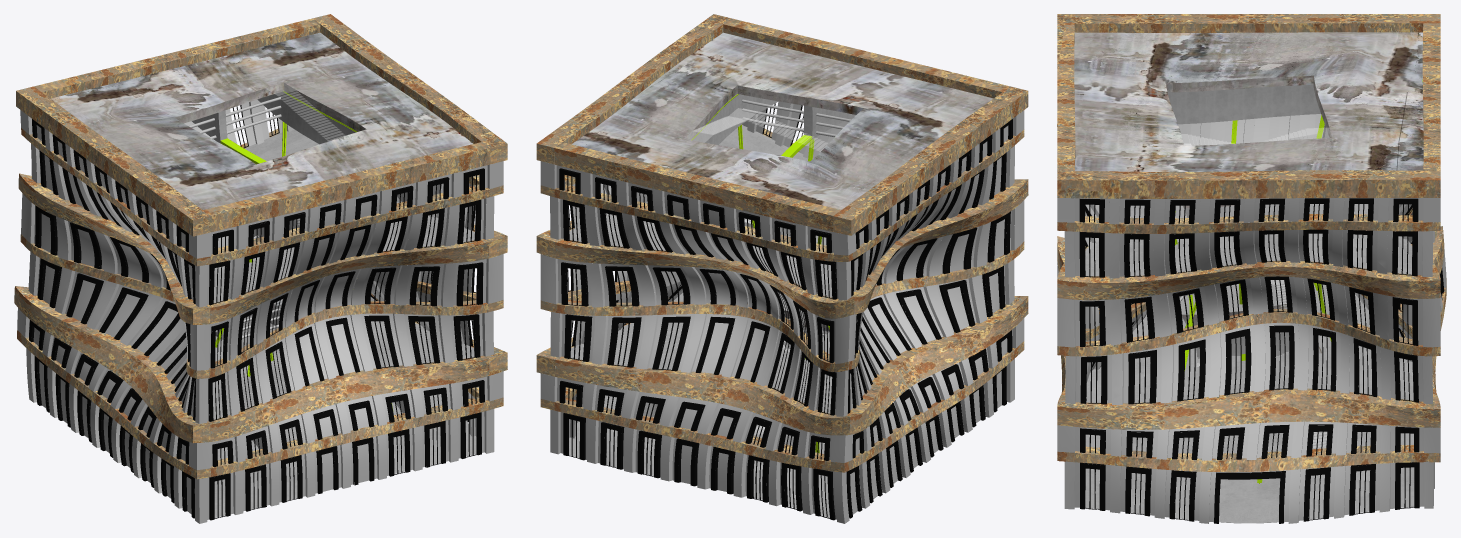
3 views of the same model, side by side, from view 1: azimuth 30°, elevation 25°; view 2: azimuth 150°, elevation 25°; view 3: azimuth 270°, elevation 25° (orthographic). The views are drawn at different scales.
Visible parts, largest first — view 1: CORTEN HAT, metal kolon, siyah, eski concrete, galvanized cephe, concrete zemin-buyuk kiris, CAM MERDIVEN, yesil; view 2: CORTEN HAT, metal kolon, siyah, eski concrete, galvanized cephe, concrete zemin-buyuk kiris, CAM MERDIVEN, yesil; view 3: CORTEN HAT, eski concrete, siyah, metal kolon, concrete zemin-buyuk kiris, galvanized cephe, CAM MERDIVEN, yesil.
Part boxes in pixels (bbox=[...]): CORTEN HAT: bbox=[14, 14, 507, 479]; metal kolon: bbox=[17, 97, 503, 523]; siyah: bbox=[29, 105, 484, 520]; eski concrete: bbox=[42, 32, 472, 425]; galvanized cephe: bbox=[29, 101, 487, 519]; concrete zemin-buyuk kiris: bbox=[192, 91, 476, 517]; CAM MERDIVEN: bbox=[266, 83, 344, 307]; yesil: bbox=[215, 91, 393, 410]; CORTEN HAT: bbox=[536, 14, 1028, 472]; metal kolon: bbox=[540, 99, 1024, 523]; siyah: bbox=[559, 103, 1012, 520]; eski concrete: bbox=[572, 32, 993, 410]; galvanized cephe: bbox=[556, 101, 1012, 519]; concrete zemin-buyuk kiris: bbox=[569, 94, 941, 517]; CAM MERDIVEN: bbox=[684, 108, 827, 434]; yesil: bbox=[691, 94, 829, 452]; CORTEN HAT: bbox=[1057, 14, 1446, 472]; eski concrete: bbox=[1074, 32, 1423, 409]; siyah: bbox=[1079, 198, 1444, 523]; metal kolon: bbox=[1057, 76, 1446, 523]; concrete zemin-buyuk kiris: bbox=[1078, 84, 1414, 523]; galvanized cephe: bbox=[1074, 114, 1424, 522]; CAM MERDIVEN: bbox=[1181, 128, 1331, 447]; yesil: bbox=[1170, 80, 1422, 483].
Size of the model in its own units: 50.2 by 44.41 by 46.95.
8 materials, 3 textured.
